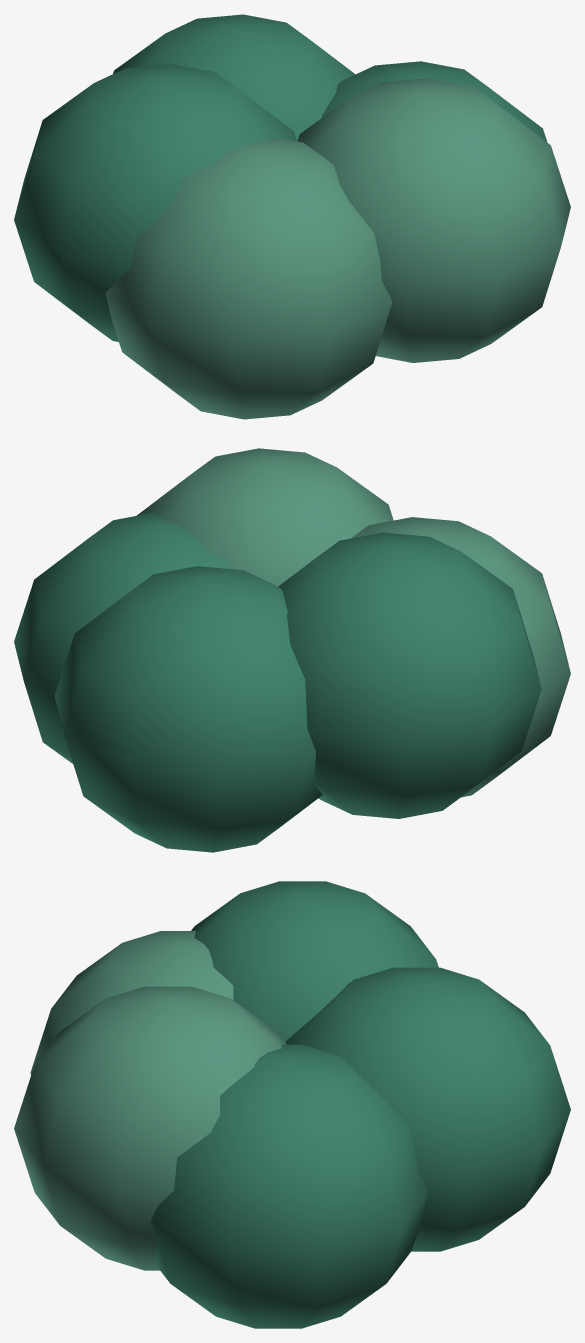
File: shrub.glb
3 renders of one model, top to bottom at view 1: azimuth 30°, elevation 25°; view 2: azimuth 150°, elevation 25°; view 3: azimuth 270°, elevation 25°, orthographic.
Visible parts, largest first — view 1: tyaga-shrub-surface; view 2: tyaga-shrub-surface; view 3: tyaga-shrub-surface.
Part boxes in pixels (x1,y1,x2,y2): tyaga-shrub-surface: (14, 14, 570, 419); tyaga-shrub-surface: (14, 448, 570, 852); tyaga-shrub-surface: (14, 881, 570, 1328).
Size of the model in its own units: 1.11 by 0.65 by 1.08.
